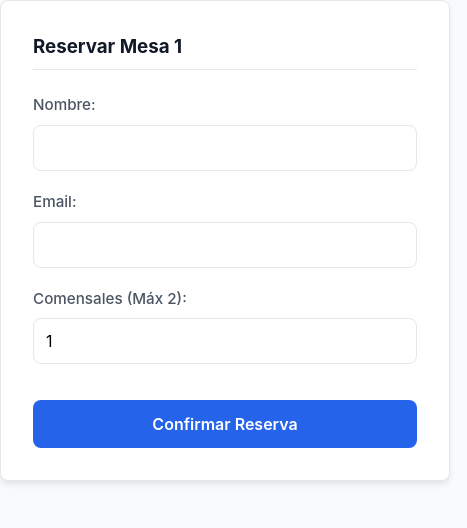
Test: ReservationForm - Validation › Test C: Validación de Formulario
Replace the text in the number field labelled "Comensales (Máx 2):" with "5": (225, 342) x1=33 y1=318 x2=417 y2=364
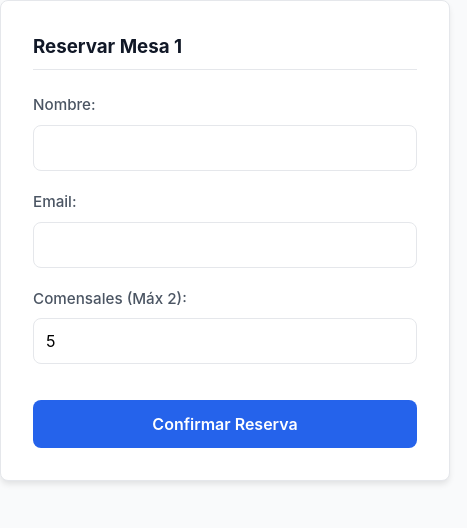
# Fill other required fields to isolate the people count failure
In the field with id "name": (225, 148) x1=33 y1=125 x2=417 y2=171, type "Juan"
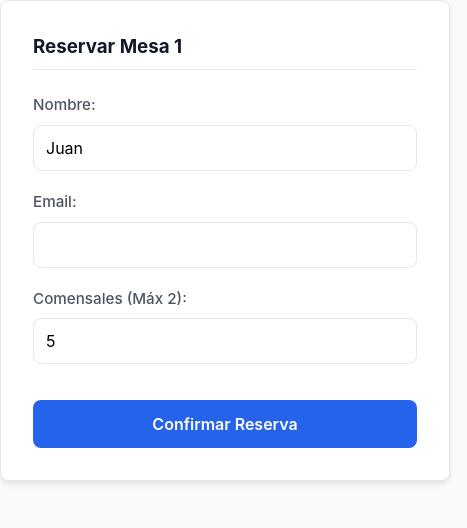
In the field with id "email": (225, 245) x1=33 y1=222 x2=417 y2=268, type "juan@test.com"
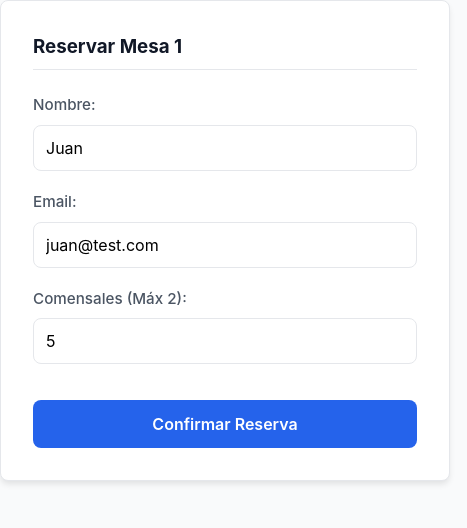
# Simular el envío del formulario.
Submit the form, box x1=33 y1=94 x2=417 y2=448
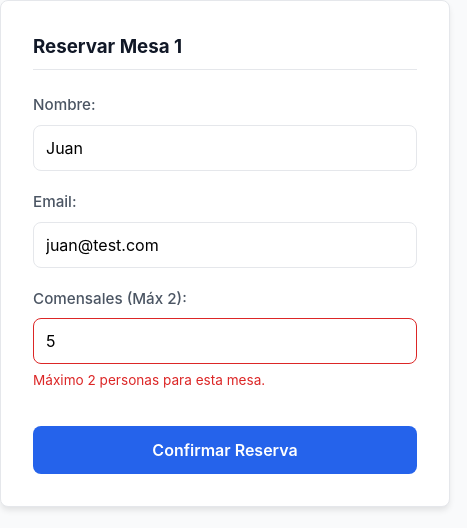
Now the text "Máximo 2 personas" is shown, box x1=33 y1=372 x2=265 y2=388
